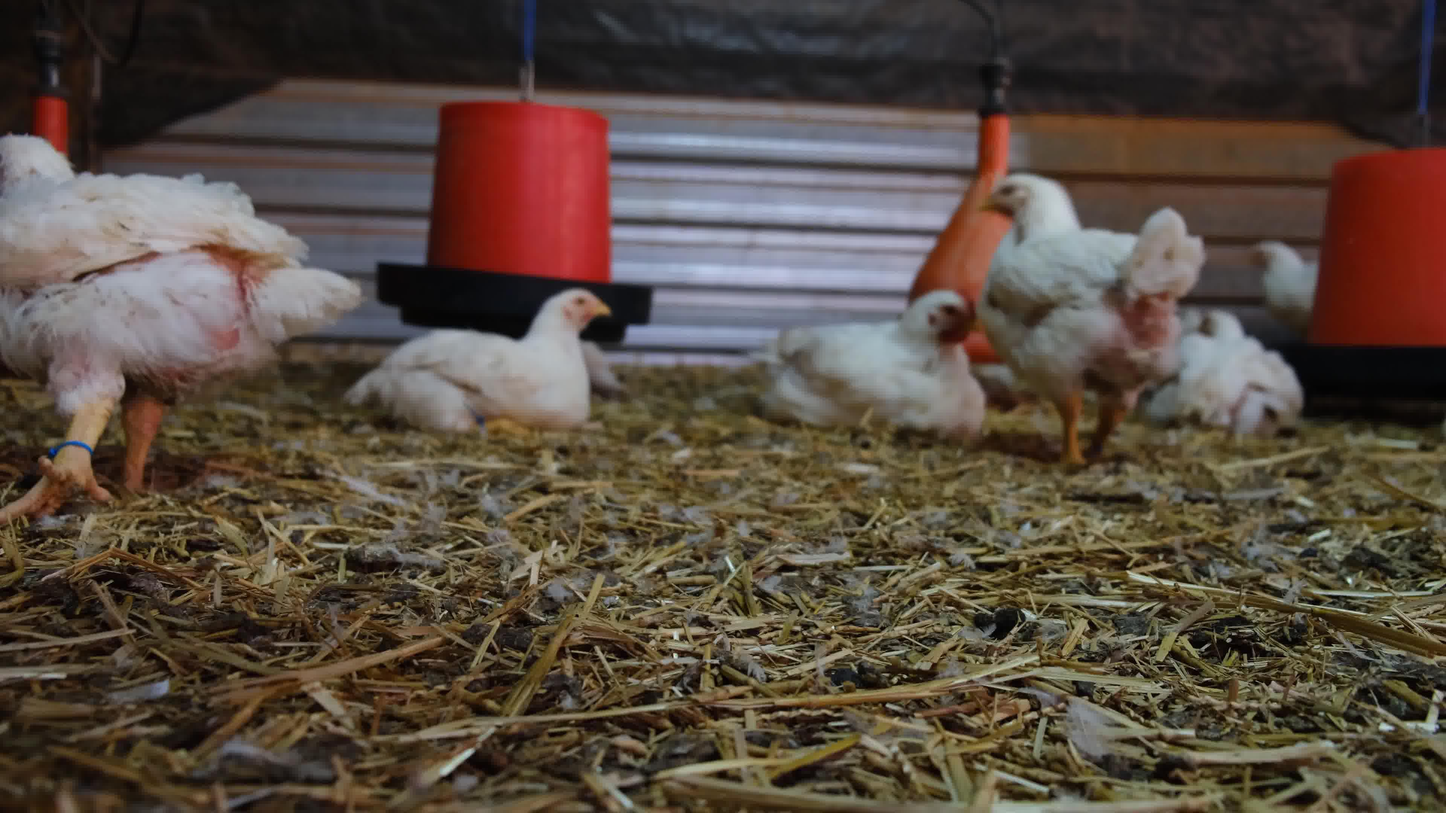AbNormal: (332, 290, 614, 425), (763, 290, 984, 437), (1143, 301, 1304, 438)
Normal: (0, 132, 363, 512), (979, 174, 1207, 473), (1245, 237, 1325, 313)
